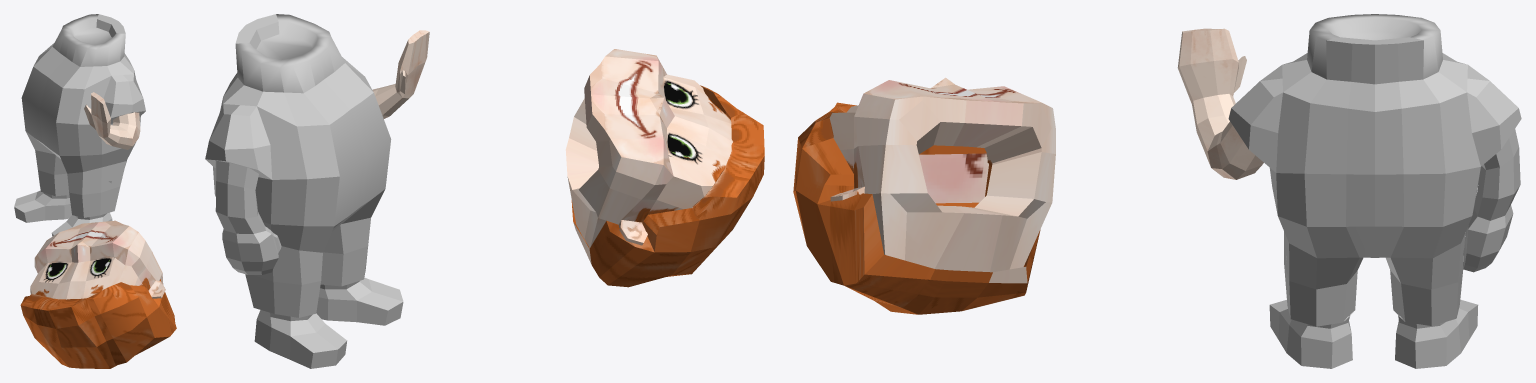
File: maskot baru rusakfbx.fbx
The picture shows the model from 3 angles, left to right: view 1: azimuth 30°, elevation 25°; view 2: azimuth 150°, elevation 25°; view 3: azimuth 270°, elevation 25°; orthographic projection. The views are drawn at different scales.
Parts seen in each view (by area): view 1: Cube.007, Cube.006, Cube.005; view 2: Cube.007, Cube.005, Cube.006; view 3: Cube.007, Cube.005, Cube.006.
Part boxes in pixels (bbox=[...]): Cube.007: bbox=[14, 14, 145, 236]; Cube.006: bbox=[20, 279, 176, 368]; Cube.005: bbox=[30, 220, 165, 299]; Cube.007: bbox=[205, 14, 429, 368]; Cube.005: bbox=[565, 49, 732, 248]; Cube.006: bbox=[571, 85, 764, 287]; Cube.007: bbox=[1177, 14, 1521, 368]; Cube.005: bbox=[829, 77, 1055, 272]; Cube.006: bbox=[793, 102, 1040, 314].
Bounding box in the file's own units: 351 × 325 × 559.
